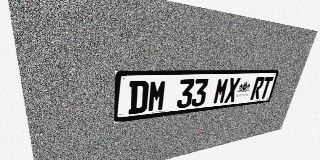3: (176, 79, 195, 109), (191, 78, 209, 107)
D: (128, 80, 149, 115)
M: (147, 80, 167, 112), (212, 78, 230, 104)
R: (250, 77, 265, 100)
T: (259, 76, 274, 99)
X: (224, 78, 241, 103)
